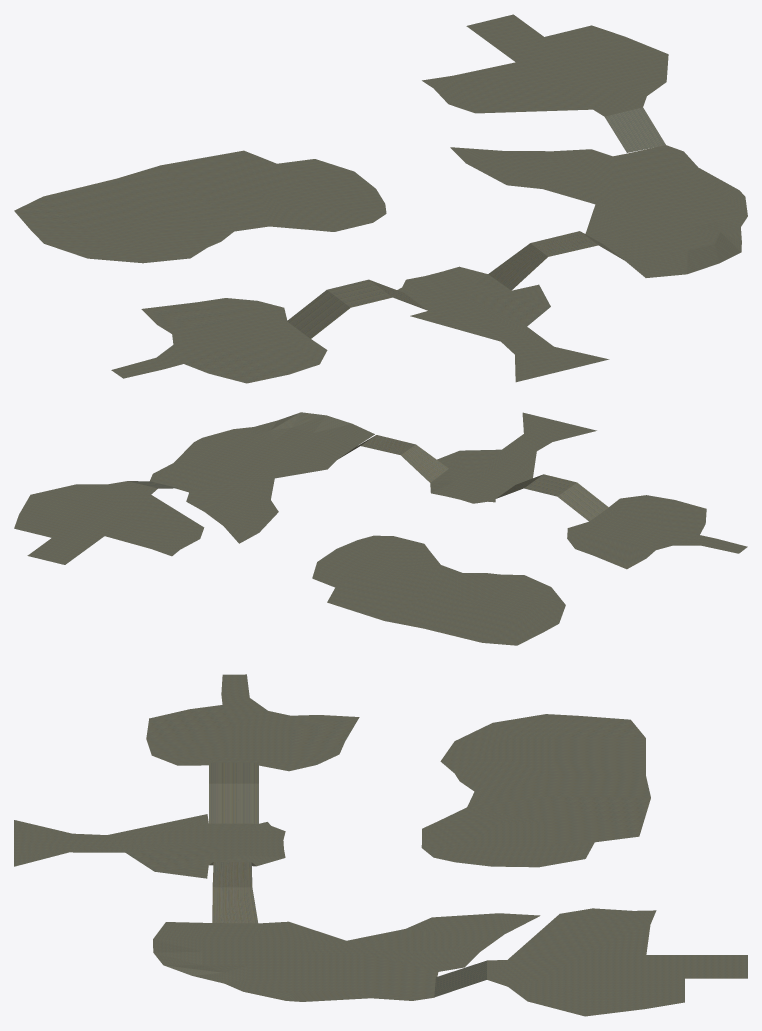
Rendered from rocktest.fbx.
3 views of the same model, one above another, from view 1: azimuth 30°, elevation 25°; view 2: azimuth 150°, elevation 25°; view 3: azimuth 270°, elevation 25° (orthographic). The views are drawn at different scales.
Visible parts, largest first — view 1: DoorStarter__8_, DoorStarter__10__Merged, DoorStarter__7_, DoorStarter__3_; view 2: DoorStarter__8_, DoorStarter__10__Merged, DoorStarter__7_, DoorStarter__3_; view 3: DoorStarter__8_, DoorStarter__10__Merged, DoorStarter__7_, DoorStarter__3_.
Part boxes in pixels (x1=…): DoorStarter__8_: x1=287, y1=145, x2=747, y2=382; DoorStarter__10__Merged: x1=14, y1=150, x2=386, y2=263; DoorStarter__7_: x1=422, y1=14, x2=668, y2=152; DoorStarter__3_: x1=111, y1=298, x2=327, y2=383; DoorStarter__8_: x1=150, y1=412, x2=608, y2=543; DoorStarter__10__Merged: x1=312, y1=535, x2=565, y2=645; DoorStarter__7_: x1=14, y1=481, x2=204, y2=564; DoorStarter__3_: x1=567, y1=495, x2=747, y2=569; DoorStarter__8_: x1=14, y1=762, x2=540, y2=1001; DoorStarter__10__Merged: x1=421, y1=714, x2=650, y2=867; DoorStarter__7_: x1=434, y1=908, x2=747, y2=1016; DoorStarter__3_: x1=146, y1=674, x2=359, y2=771.
Size of the model in its own units: 1088 by 33.51 by 935.
